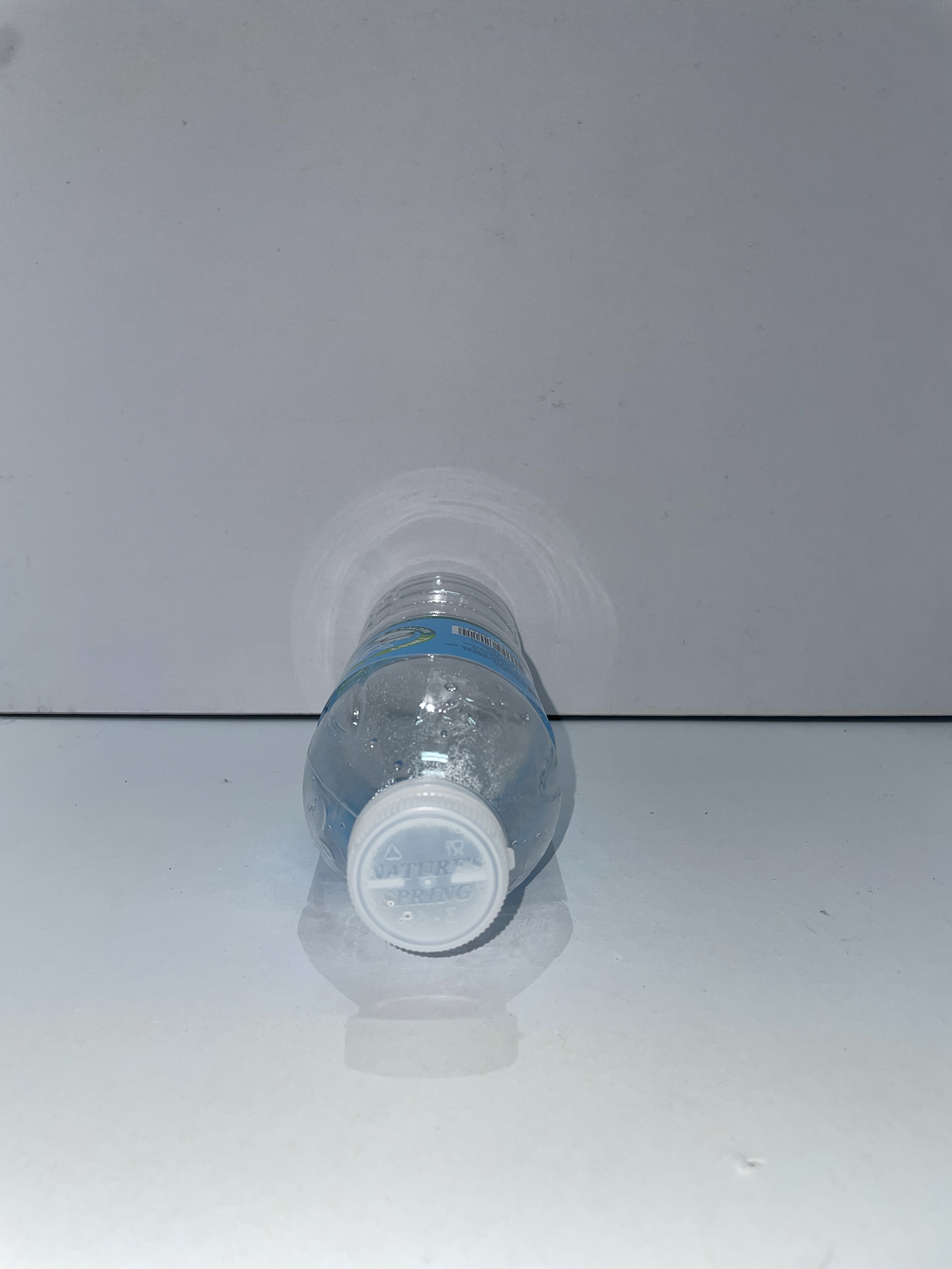natures spring 500ml: (303, 575, 560, 953)
